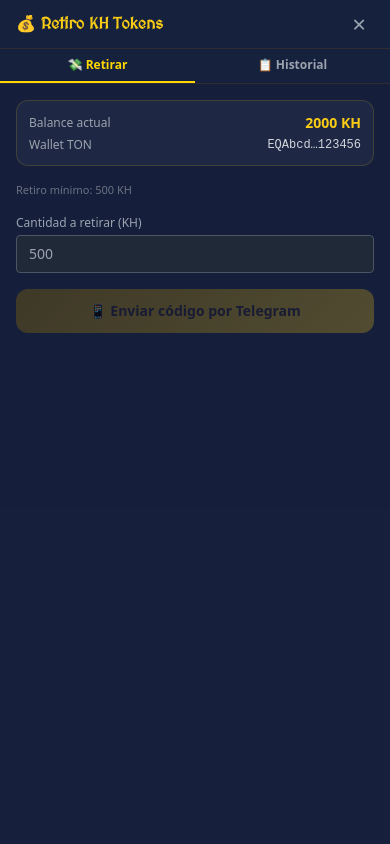
Test: WithdrawalPanel — History tab › renders withdrawal history items
Click the button "📋 Historial": (292, 66) [195,49,389,83]
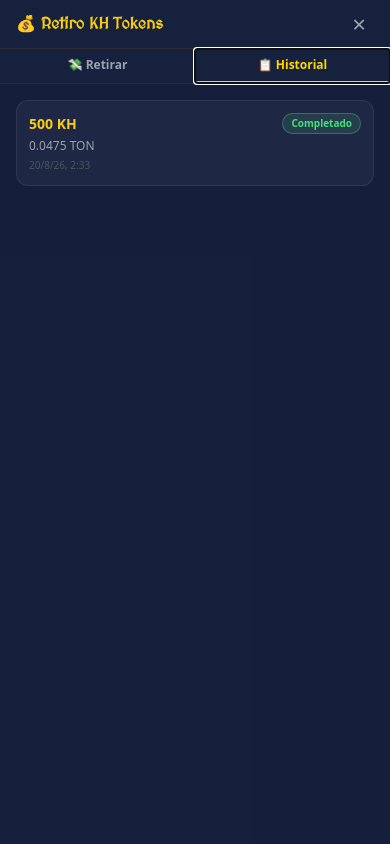
Check: the text "500 KH" is shown, box [29,114,77,134]
Check: the text "Completado" is shown, box [282,113,361,134]
